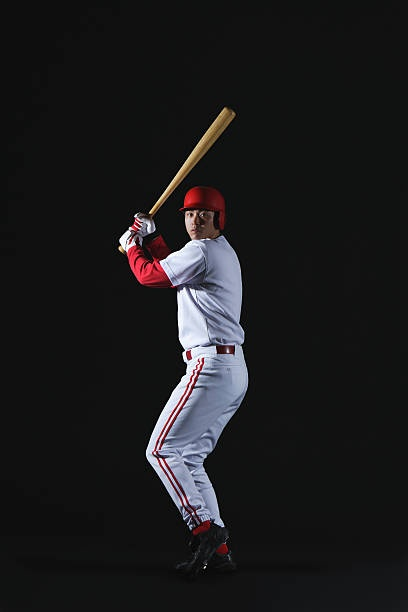bita: (147, 105, 237, 220)
